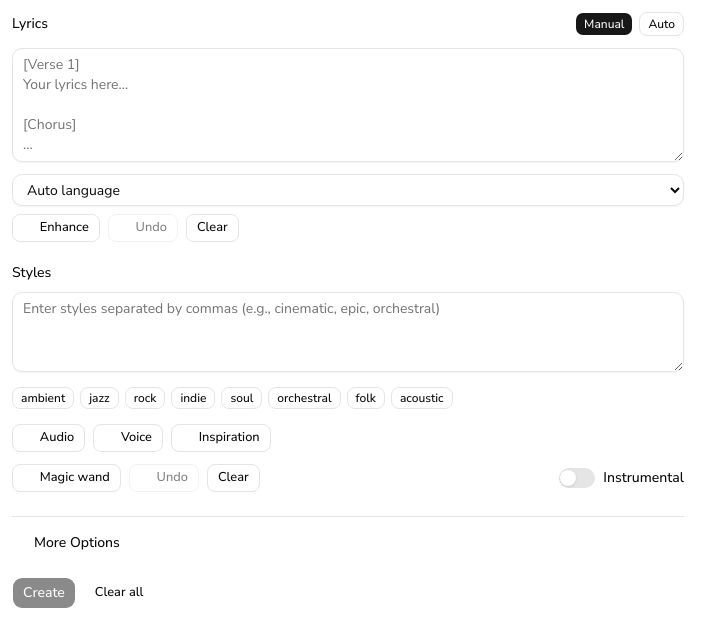
AdvancedCreationForm › Clear all resets the styles field
This screenshot has width=704, height=627.
Type "orchestral" into the text box labelled "Styles" at (348, 332), box [12,292,684,372]
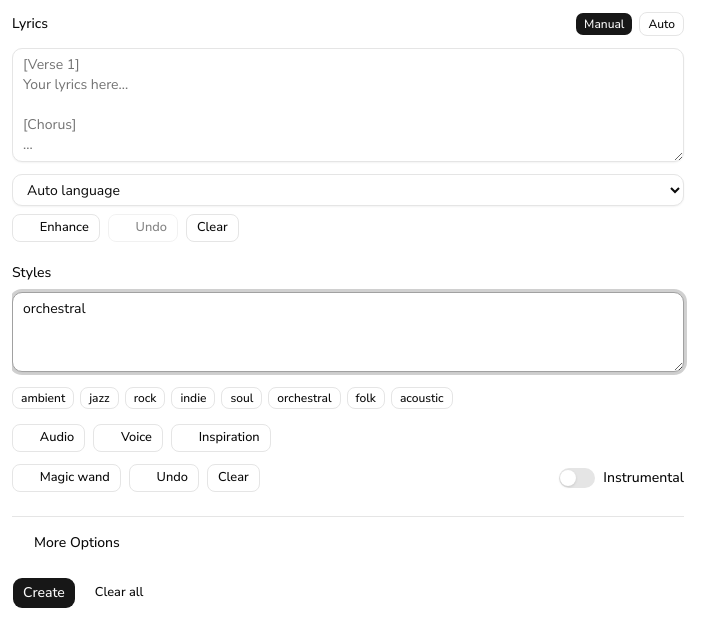
Click the button "Clear all" at (119, 593), box [84,579,154,607]
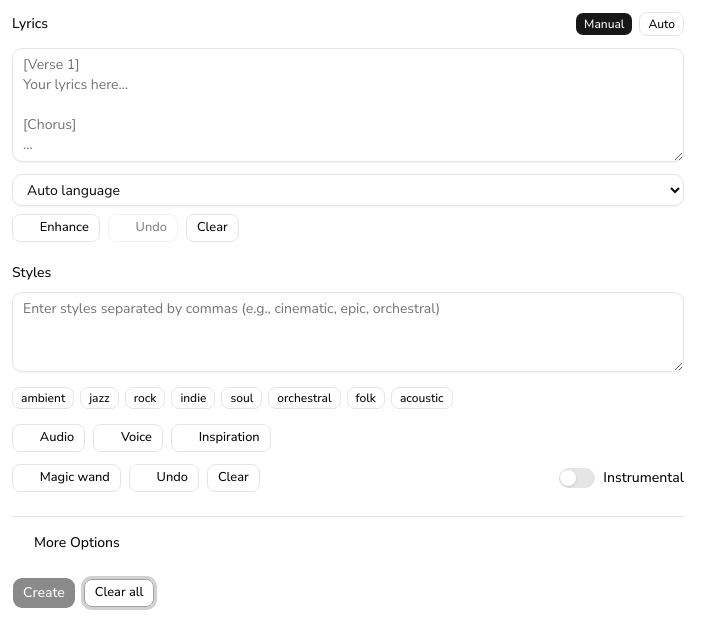
expect the text box labelled "Styles" is empty: met, box [12,292,684,372]
expect the button "Create" is disabled: met, box [12,577,76,609]
